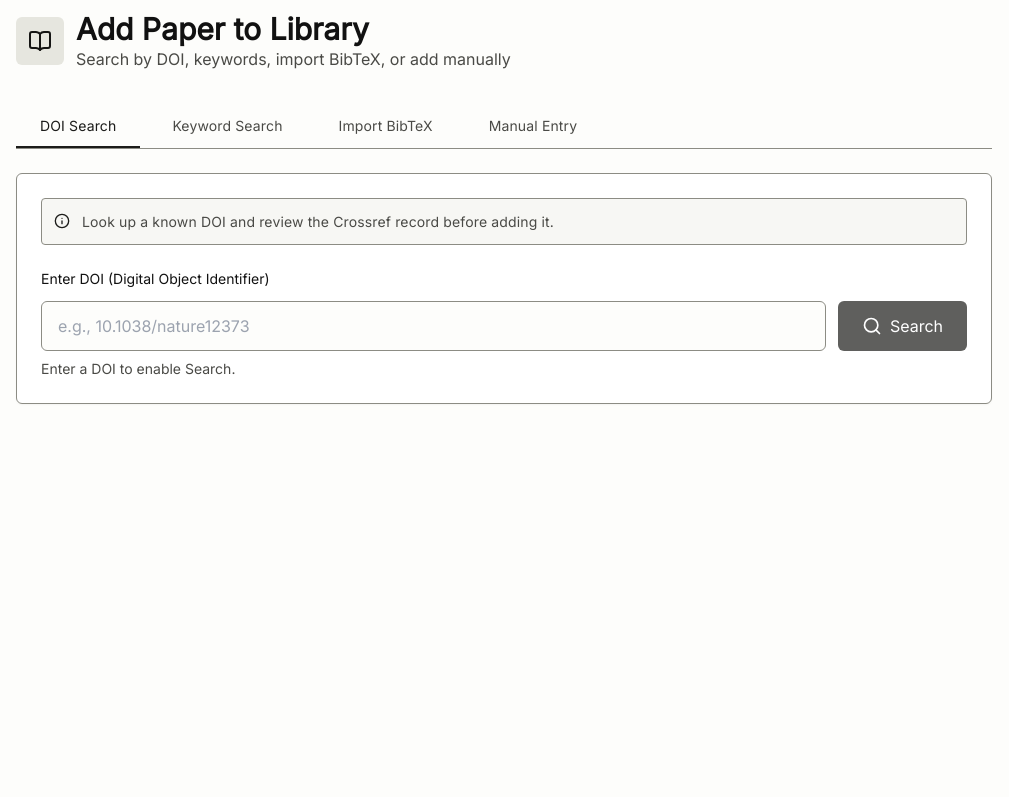
Test: AddPaperView tab-reset parity › keyboard tab switch also clears manual field errors
Click the tab "Manual Entry" at point(533, 126), box [465,103,601,148]
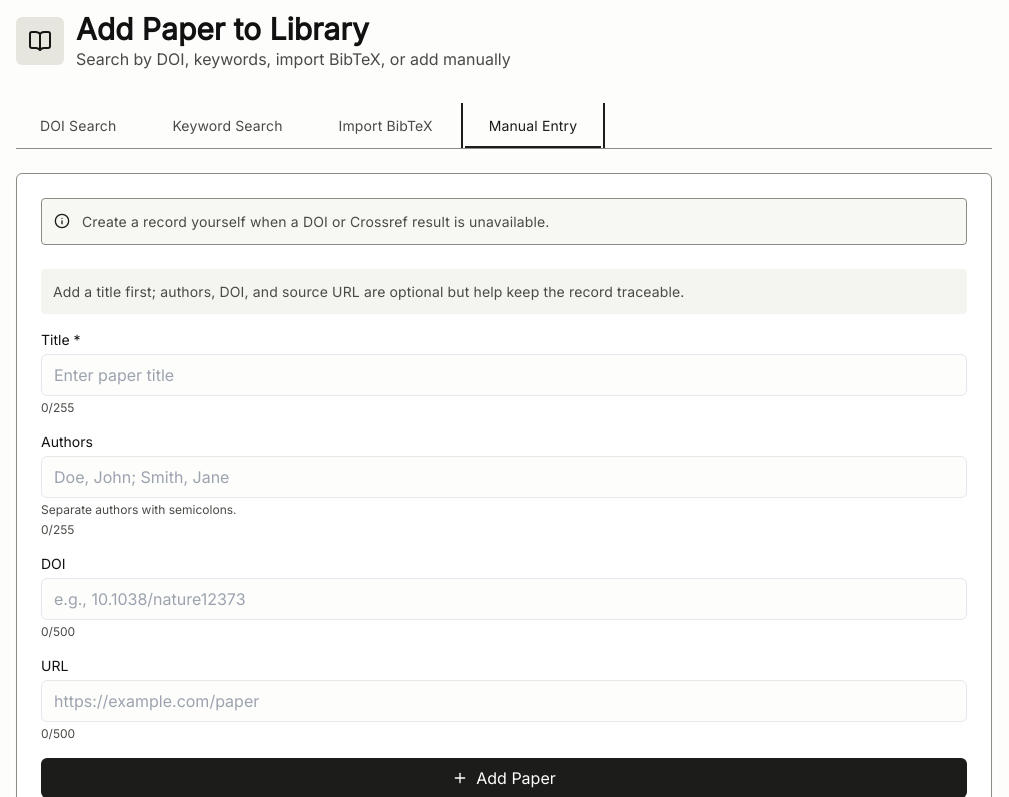
Submit the form named "add paper", box [41,330,967,796]
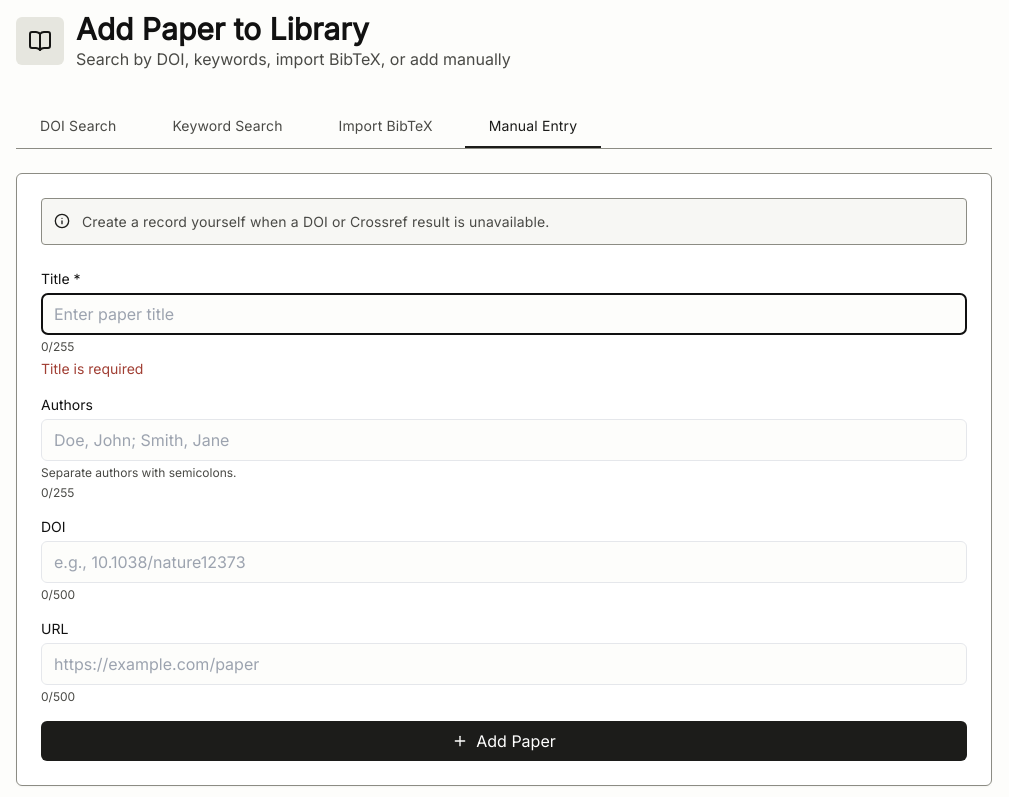
Now the text "Title is required" is shown, box [41,360,143,377]
Press ArrowLeft in the element showing "DOI Search Keyword Search Import BibTeX Manual Entry", box [16,103,992,149]
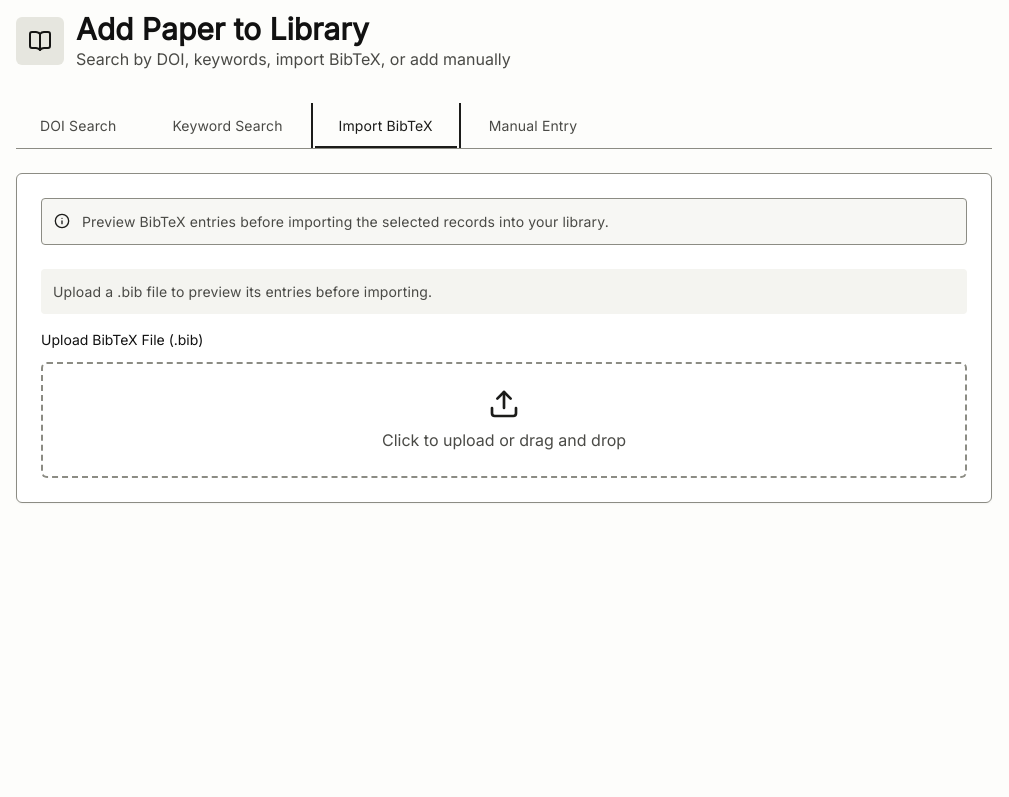
Now the text "Title is required" is gone
